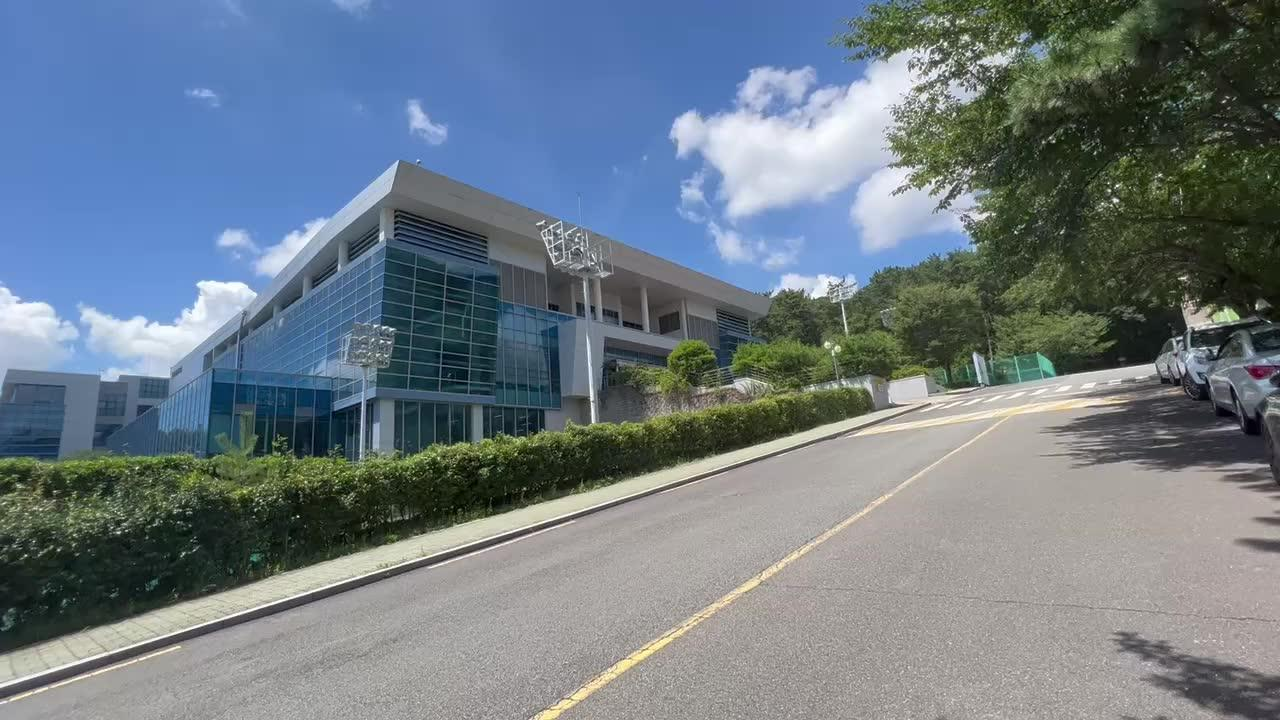building: (151, 146, 697, 423)
